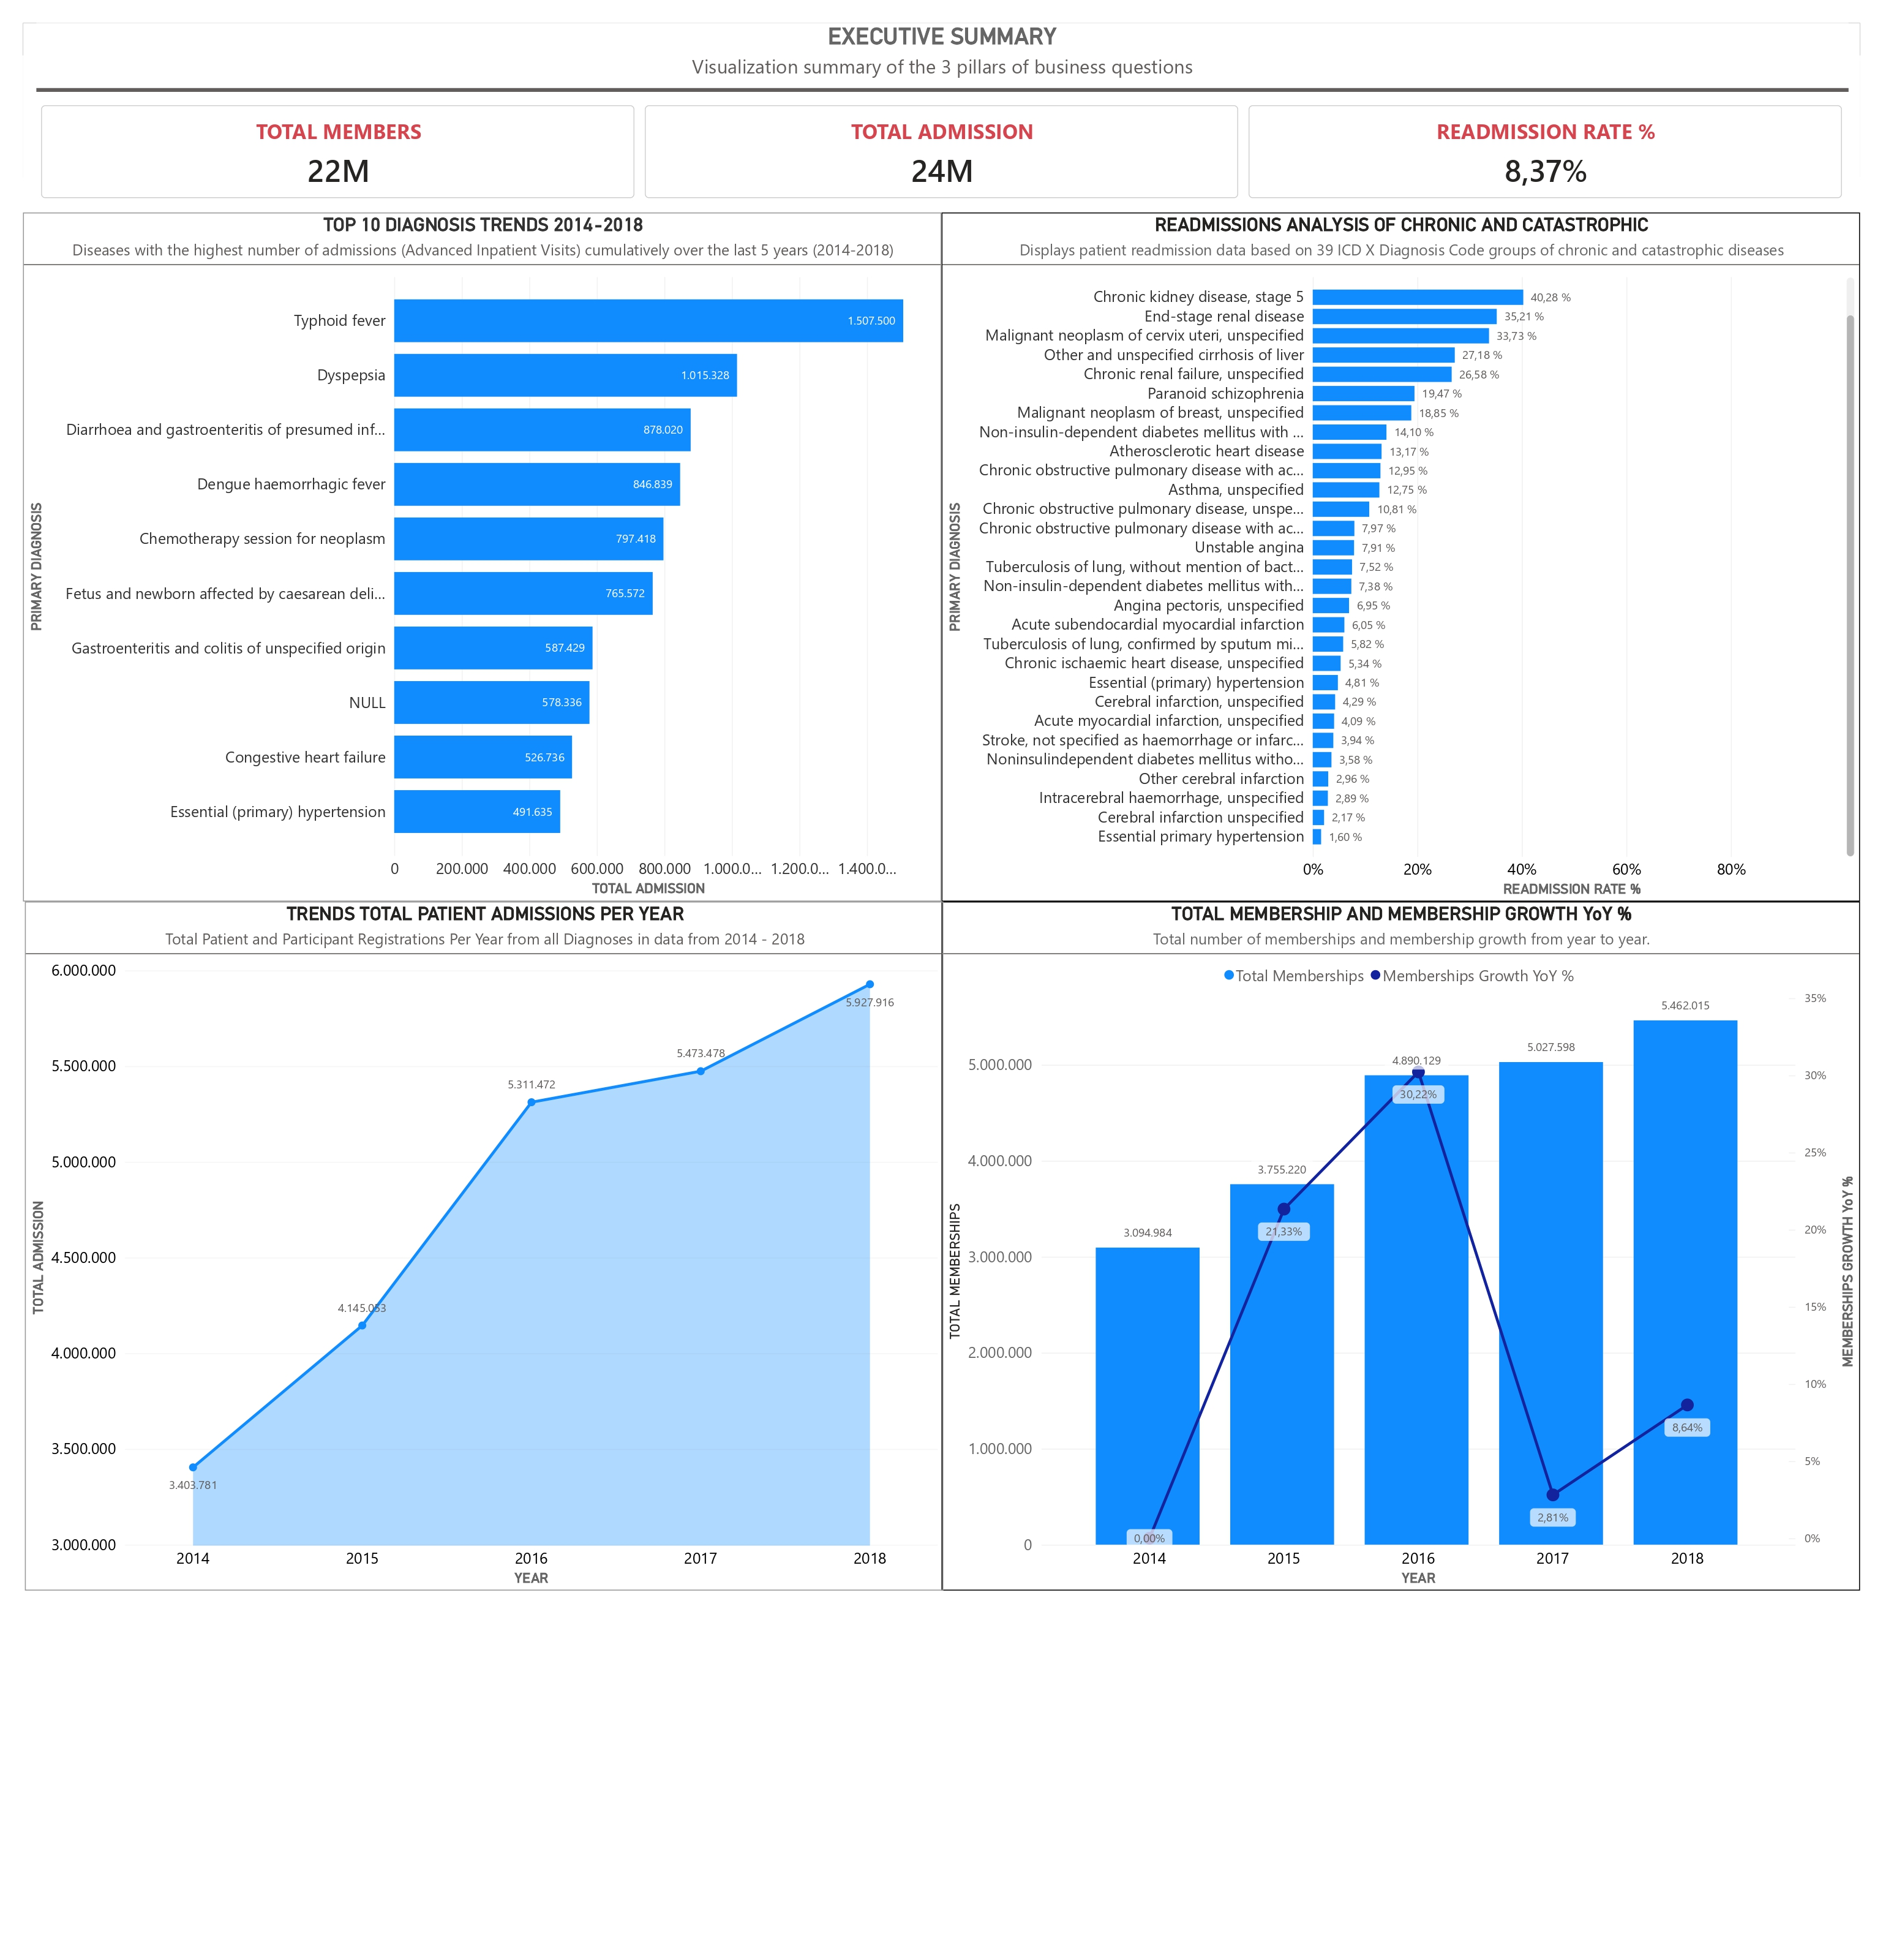

The dashboard page shown, as its layout file describes it:
{"tool":"powerbi","page":{"name":"Executive Summary","canvas":[1920,2000],"ordinal":0},"visuals":[{"type":"cardVisual","title":"EXECUTIVE SUMMARY","fields":{"Data":["Master_RITL_2014_2018.Total Peserta","Master_RITL_2014_2018.Total Admisi","Master_RITL_2014_2018.Readmission Rate %"]},"box":[14,0,1894,198],"z":0},{"type":"lineClusteredColumnComboChart","title":"TOTAL MEMBERSHIP AND MEMBERSHIP GROWTH YoY %","fields":{"Category":["Master_RITL_2014_2018.Tahun"],"Y":["Master_RITL_2014_2018.Total Peserta"],"Y2":["Master_RITL_2014_2018.Pertumbuhan Peserta YoY %"]},"box":[960,918,960,720],"z":1000},{"type":"clusteredBarChart","title":"READMISSIONS ANALYSIS OF CHRONIC AND CATASTROPHIC","fields":{"Category":["Master_RITL_2014_2018.Diagnosis Primer"],"Y":["Master_RITL_2014_2018.Readmission Rate %"]},"box":[960,198,960,720],"z":2000},{"type":"clusteredBarChart","title":"TOP 10 DIAGNOSIS TRENDS 2014-2018","fields":{"Category":["Master_RITL_2014_2018.Diagnosis Primer"],"Y":["Master_RITL_2014_2018.Total Admisi"]},"box":[0,198,960,720],"z":3000},{"type":"lineChart","title":"TRENDS TOTAL PATIENT ADMISSIONS  PER YEAR","fields":{"Category":["Master_RITL_2014_2018.Tahun"],"Y":["Master_RITL_2014_2018.Total Admisi"]},"box":[2,918,960,720],"z":4000}]}

Visuals, with their boxes in screenshot pixels (x1, y1, x2, y2), scaled from the page's 1920x2000 canvas onto the 1883x1960 screenshot:
"EXECUTIVE SUMMARY" cardVisual: x1=13 y1=0 x2=1871 y2=194
"TOTAL MEMBERSHIP AND MEMBERSHIP GROWTH YoY %" lineClusteredColumnComboChart: x1=942 y1=900 x2=1882 y2=1605
"READMISSIONS ANALYSIS OF CHRONIC AND CATASTROPHIC" clusteredBarChart: x1=942 y1=194 x2=1882 y2=900
"TOP 10 DIAGNOSIS TRENDS 2014-2018" clusteredBarChart: x1=0 y1=194 x2=942 y2=900
"TRENDS TOTAL PATIENT ADMISSIONS  PER YEAR" lineChart: x1=2 y1=900 x2=944 y2=1605
